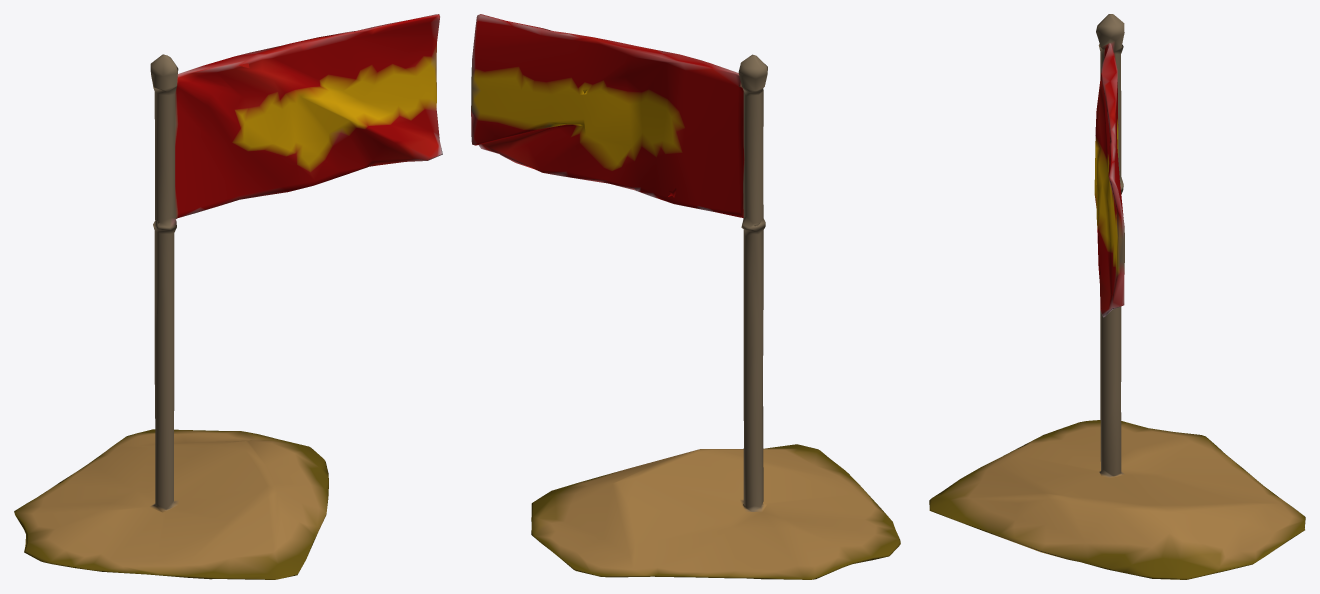
File: gen3d-beach-flag-lod0.glb
3 renders of one model, left to right at view 1: azimuth 30°, elevation 25°; view 2: azimuth 150°, elevation 25°; view 3: azimuth 270°, elevation 25°, orthographic.
Visible parts, largest first — view 1: part_0; view 2: part_0; view 3: part_0.
Boxes of the visible parts, x1=… form: part_0: x1=14, y1=14, x2=442, y2=579; part_0: x1=471, y1=14, x2=900, y2=579; part_0: x1=929, y1=14, x2=1305, y2=579.
Size of the model in its own units: 0.9282 by 0.9977 by 0.7169.
